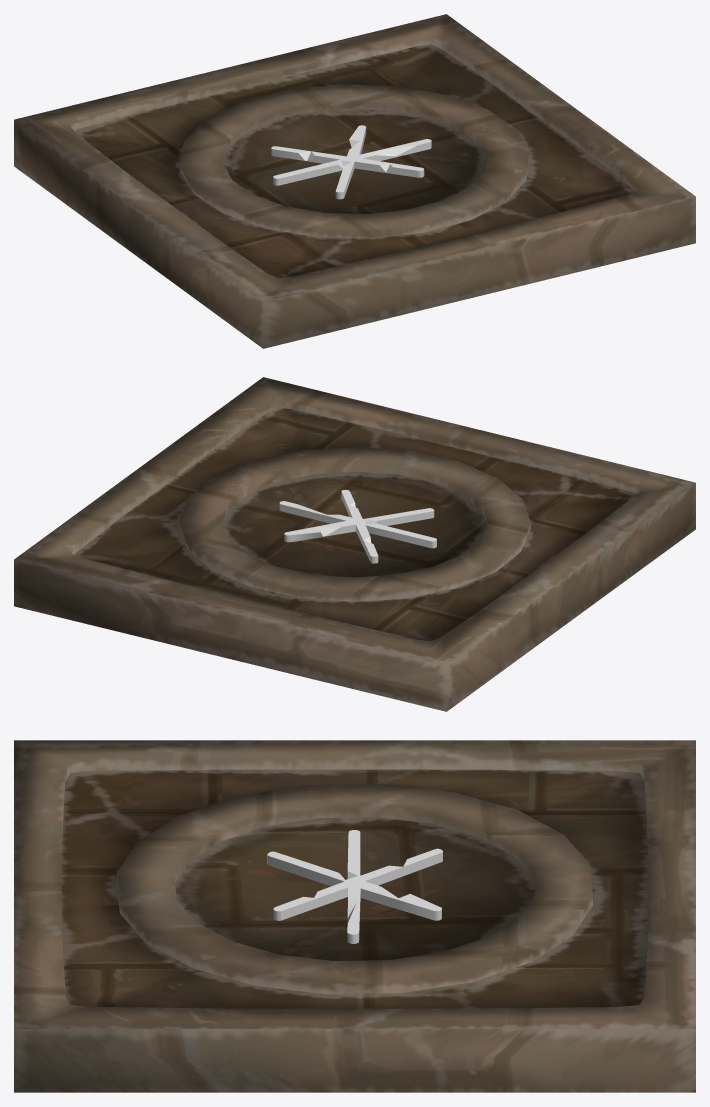
File: baldosa x.fbx
3 views of the same model, one above another, from view 1: azimuth 30°, elevation 25°; view 2: azimuth 150°, elevation 25°; view 3: azimuth 270°, elevation 25° (orthographic). The views are drawn at different scales.
Parts seen in each view (by area): view 1: baldosa low.001, runa x.001; view 2: baldosa low.001, runa x.001; view 3: baldosa low.001, runa x.001.
Boxes of the visible parts, box(x1,y1,x2,y2) form: baldosa low.001: box(14, 14, 695, 348); runa x.001: box(271, 125, 431, 199); baldosa low.001: box(14, 377, 695, 711); runa x.001: box(279, 489, 436, 563); baldosa low.001: box(14, 740, 695, 1092); runa x.001: box(267, 830, 442, 943).
Bounding box in the file's own units: 45.2 × 4.69 × 45.12.
